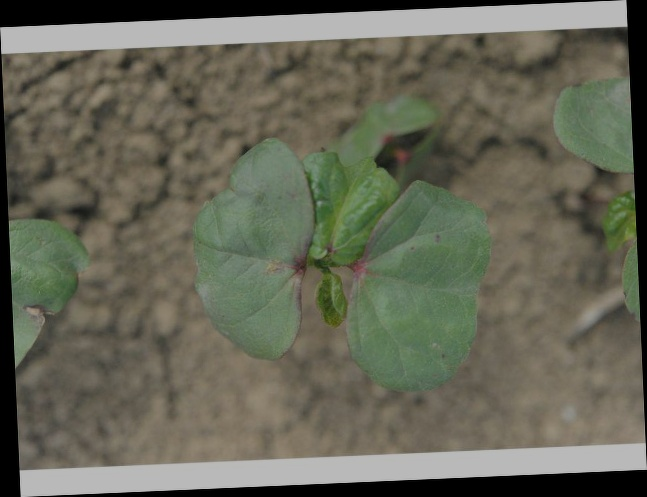cotton: (193, 131, 493, 397)
